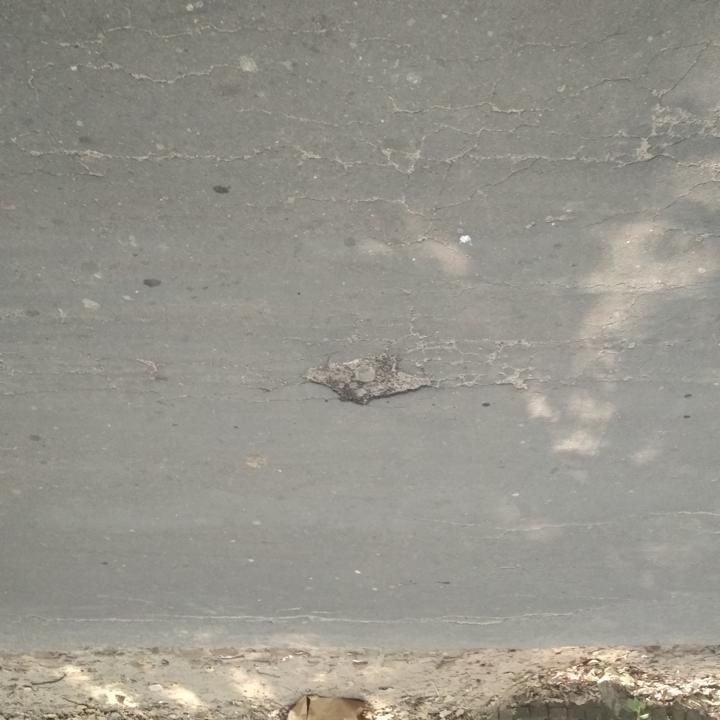pothole: (300, 351, 438, 408)
